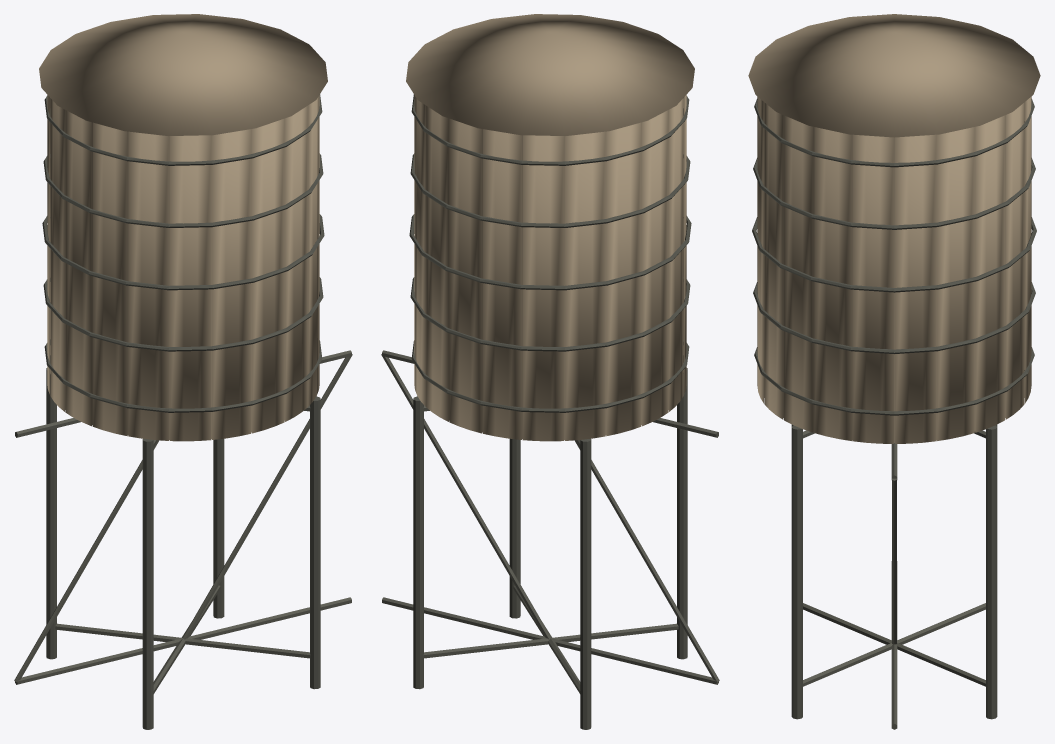
The model's file is cp_water_tower.glb.
3 views of the same model, side by side, from view 1: azimuth 30°, elevation 25°; view 2: azimuth 150°, elevation 25°; view 3: azimuth 270°, elevation 25° (orthographic).
Visible parts, largest first — view 1: CP_WaterTower_Wood, CP_WaterTower_Steel; view 2: CP_WaterTower_Wood, CP_WaterTower_Steel; view 3: CP_WaterTower_Wood, CP_WaterTower_Steel.
Boxes of the visible parts, x1=… form: CP_WaterTower_Wood: x1=39, y1=14, x2=327, y2=441; CP_WaterTower_Steel: x1=14, y1=94, x2=352, y2=729; CP_WaterTower_Wood: x1=406, y1=14, x2=694, y2=441; CP_WaterTower_Steel: x1=381, y1=94, x2=719, y2=729; CP_WaterTower_Wood: x1=748, y1=14, x2=1040, y2=443; CP_WaterTower_Steel: x1=752, y1=99, x2=1036, y2=729.
Size of the model in its own units: 3.44 by 6.22 by 2.56.
